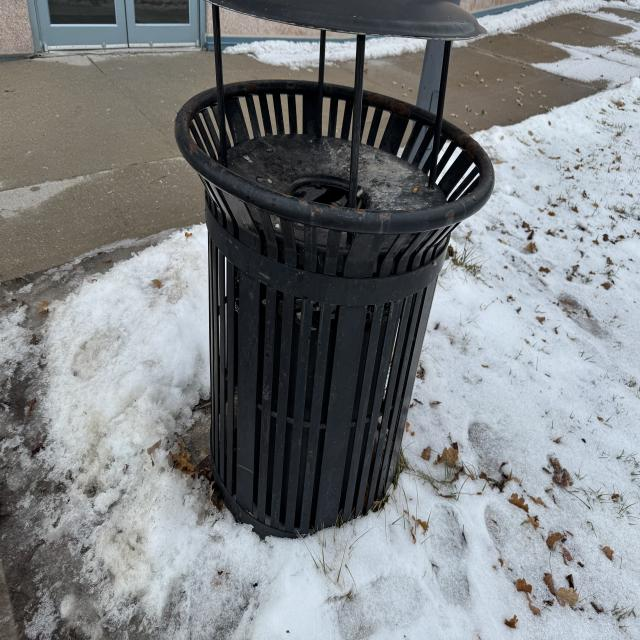Dustbin: (174, 0, 496, 536)
